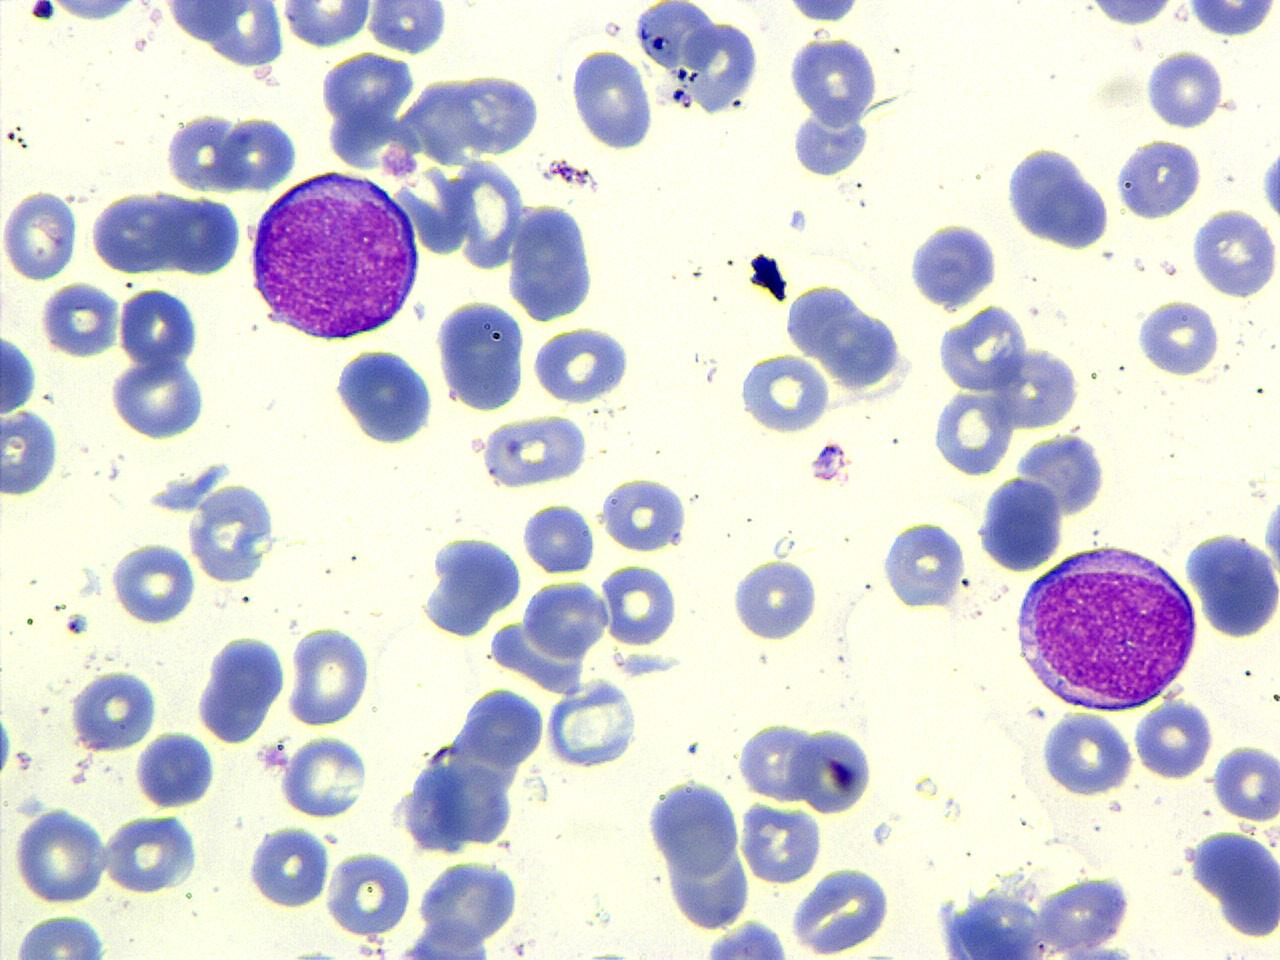Platelets: (609, 648, 681, 678), (806, 442, 850, 486), (1258, 142, 1280, 226), (148, 480, 198, 514), (751, 252, 785, 289), (0, 710, 15, 781), (578, 942, 636, 960), (287, 942, 338, 960), (14, 795, 48, 818), (870, 818, 896, 848), (750, 251, 774, 276), (66, 610, 90, 634), (788, 207, 808, 233), (13, 748, 33, 772)
RBC: (433, 296, 528, 413), (787, 863, 894, 957), (1189, 829, 1280, 939), (567, 44, 657, 152), (13, 804, 108, 904), (542, 677, 639, 771), (976, 471, 1064, 574), (1038, 707, 1136, 799), (286, 624, 372, 727), (451, 156, 527, 272), (108, 354, 207, 442), (100, 812, 202, 896), (736, 348, 830, 438), (1190, 205, 1278, 300), (324, 848, 413, 940), (87, 189, 178, 275), (1, 185, 80, 284), (996, 341, 1082, 431), (279, 733, 370, 818), (66, 670, 158, 754), (930, 388, 1015, 478), (109, 539, 196, 626), (520, 576, 612, 658), (245, 823, 332, 909), (599, 474, 690, 554), (795, 724, 874, 816), (460, 682, 546, 766), (737, 800, 822, 884), (117, 284, 200, 370), (1143, 45, 1225, 132), (600, 560, 680, 649), (736, 718, 820, 802), (159, 192, 242, 276), (132, 729, 217, 810), (219, 112, 302, 194), (1133, 698, 1213, 780), (163, 110, 242, 193), (39, 278, 118, 360), (1211, 740, 1279, 826), (520, 500, 596, 575), (276, 0, 374, 49), (366, 0, 448, 56), (388, 918, 495, 960), (1182, 0, 1278, 39), (38, 0, 146, 26), (778, 0, 867, 26)
WBC: (1010, 539, 1202, 715), (244, 167, 425, 344), (389, 691, 546, 862), (929, 864, 1141, 960), (779, 280, 914, 410), (783, 23, 892, 181), (631, 0, 767, 120), (1003, 141, 1115, 253), (416, 531, 526, 642), (505, 200, 599, 325), (1187, 822, 1280, 944), (332, 343, 438, 449), (434, 294, 526, 416), (1182, 526, 1280, 640), (193, 632, 289, 746), (788, 862, 898, 956), (644, 776, 744, 878), (186, 479, 281, 586), (413, 858, 525, 948), (151, 2, 296, 71), (935, 295, 1033, 396), (568, 44, 656, 152), (477, 412, 592, 494), (904, 218, 1002, 313), (99, 810, 204, 898), (976, 472, 1066, 574), (542, 678, 638, 772), (1012, 428, 1110, 520), (878, 516, 970, 612), (530, 322, 633, 406), (1190, 204, 1278, 302), (730, 552, 822, 644), (1112, 134, 1206, 223), (735, 352, 832, 437), (87, 189, 180, 276), (1133, 296, 1223, 382), (246, 822, 331, 912), (599, 473, 691, 556), (738, 717, 821, 808), (462, 684, 548, 768), (1142, 47, 1226, 132), (135, 729, 217, 811), (163, 110, 242, 194), (221, 110, 300, 194), (0, 401, 63, 501), (8, 910, 117, 958), (280, 0, 374, 49), (700, 918, 798, 960), (0, 324, 40, 423), (1179, 0, 1280, 37), (1070, 0, 1192, 30), (1258, 135, 1280, 231), (1262, 480, 1280, 596)
